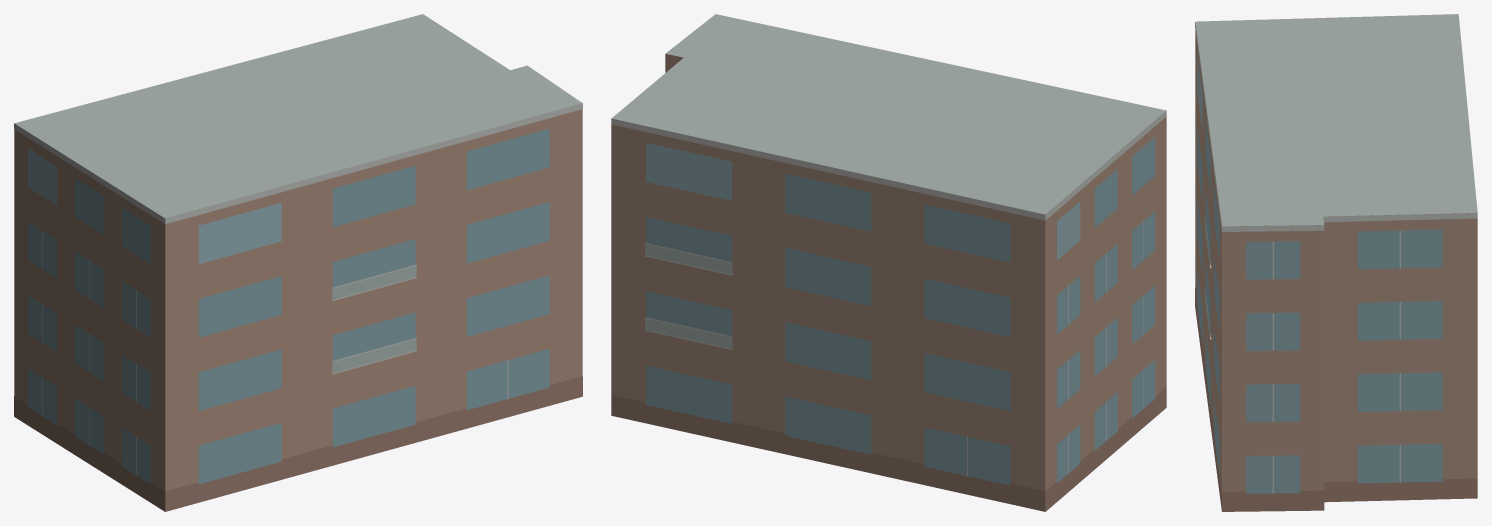
The model's file is survey-upis-32656597.glb.
3 views of the same model, side by side, from view 1: azimuth 30°, elevation 25°; view 2: azimuth 150°, elevation 25°; view 3: azimuth 270°, elevation 25° (orthographic). The views are drawn at different scales.
Visible parts, largest first — view 1: survey-upis-32656597.tmp; view 2: survey-upis-32656597.tmp; view 3: survey-upis-32656597.tmp.
Part boxes in pixels (left/top/right/bottom): survey-upis-32656597.tmp: left=14, top=14, right=582, bottom=511; survey-upis-32656597.tmp: left=611, top=14, right=1166, bottom=511; survey-upis-32656597.tmp: left=1195, top=14, right=1477, bottom=511.
Size of the model in its own units: 19.47 by 12.2 by 10.95.
